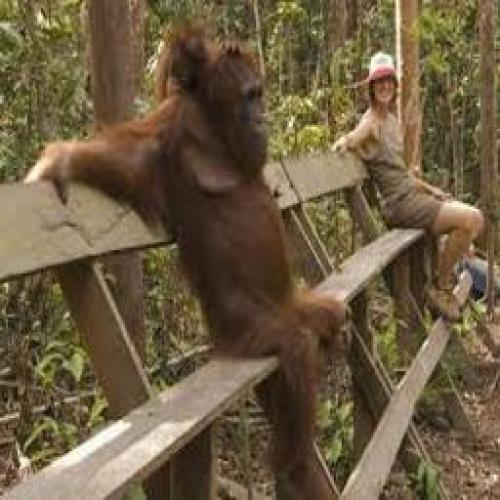orangutan-endangered: (24, 7, 357, 498)
